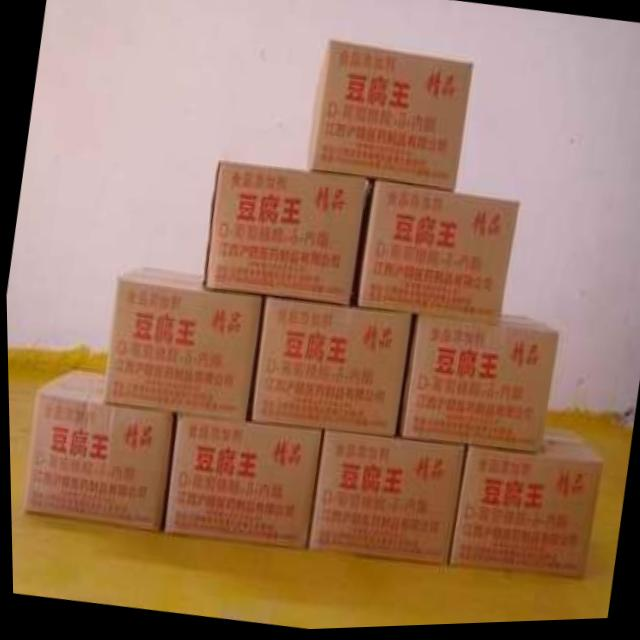box: (101, 264, 263, 423), (305, 42, 472, 191), (21, 369, 173, 530), (203, 164, 370, 309), (247, 297, 416, 438), (446, 431, 602, 581), (357, 181, 517, 321), (160, 415, 322, 553), (401, 314, 556, 456), (302, 431, 465, 566)
